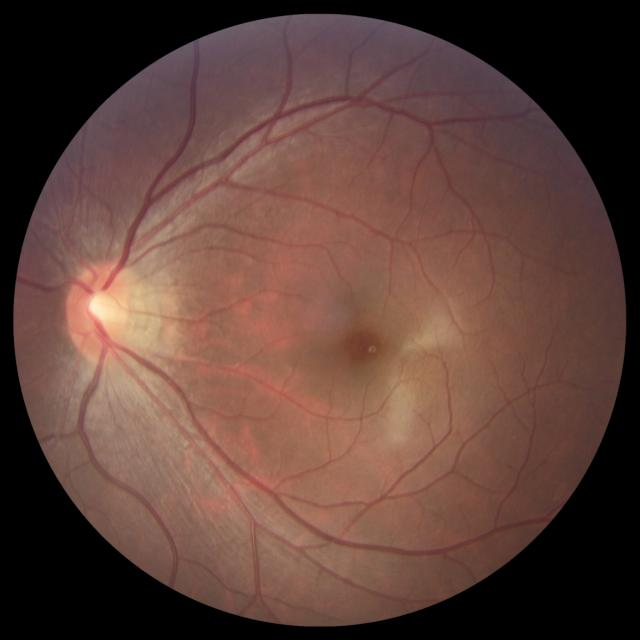OC: (84, 289, 117, 326)
OD: (68, 266, 134, 362)
